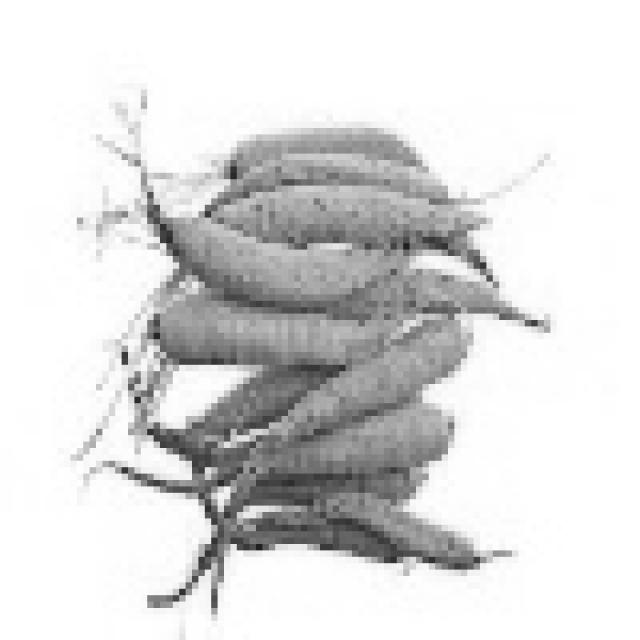Stale_Carrot: (269, 318, 464, 442), (170, 218, 404, 310), (160, 295, 392, 367), (211, 185, 475, 247), (255, 400, 448, 481), (192, 368, 331, 434)
